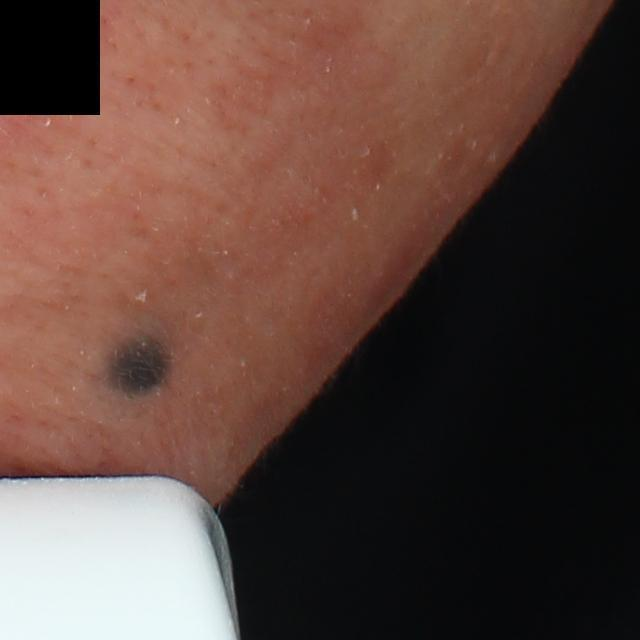nevus: (90, 327, 183, 402)
